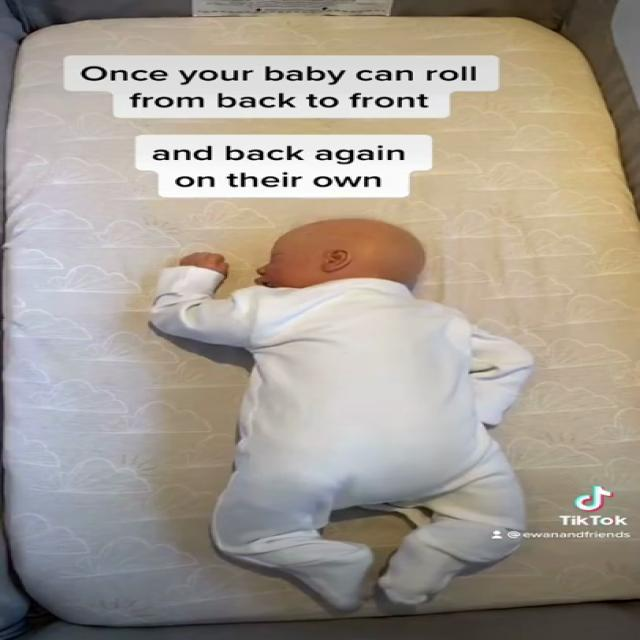baby: (151, 215, 554, 622)
